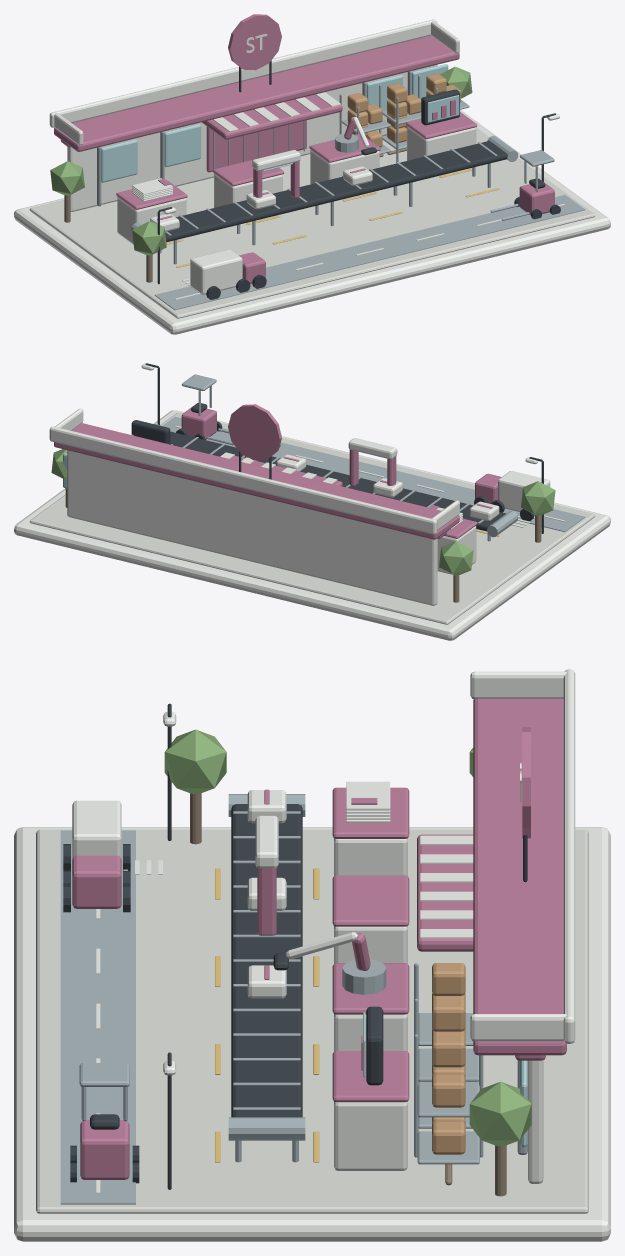
File: studio.glb
3 views of the same model, one above another, from view 1: azimuth 30°, elevation 25°; view 2: azimuth 150°, elevation 25°; view 3: azimuth 270°, elevation 25° (orthographic). The views are drawn at different scales.
Parts seen in each view (by area): view 1: Workshop floor, Factory roof, Island plinth, Loading lane, Conveyor belt, Warehouse back, Roof parapet, Factory central shutter, Round sign, Factory canopy, Delivery trailer, Work bench.003 (+21 smaller); view 2: Warehouse back, Workshop floor, Island plinth, Roof parapet, Factory roof, Loading lane, Conveyor belt, Round sign, Delivery trailer, Icosphere, Icosphere.002, Forklift body (+8 smaller); view 3: Workshop floor, Island plinth, Factory roof, Loading lane, Conveyor belt, Work bench.003, Roof parapet, Accent bench trim.001, Factory canopy, Accent bench trim.003, Icosphere.001, Icosphere.002 (+29 smaller).
Part boxes in pixels (x1=…): Workshop floor: x1=29, y1=127, x2=595, y2=318; Factory roof: x1=54, y1=35, x2=459, y2=151; Island plinth: x1=14, y1=109, x2=610, y2=334; Loading lane: x1=154, y1=195, x2=585, y2=310; Conveyor belt: x1=165, y1=141, x2=506, y2=242; Warehouse back: x1=67, y1=64, x2=437, y2=211; Roof parapet: x1=49, y1=19, x2=437, y2=127; Factory central shutter: x1=206, y1=120, x2=306, y2=172; Round sign: x1=228, y1=14, x2=281, y2=70; Factory canopy: x1=201, y1=94, x2=342, y2=139; Delivery trailer: x1=190, y1=249, x2=242, y2=294; Work bench.003: x1=407, y1=126, x2=476, y2=160; Warehouse back: x1=67, y1=450, x2=437, y2=605; Workshop floor: x1=29, y1=412, x2=595, y2=624; Island plinth: x1=14, y1=410, x2=610, y2=640; Roof parapet: x1=49, y1=426, x2=437, y2=534; Factory roof: x1=54, y1=423, x2=459, y2=539; Loading lane: x1=162, y1=416, x2=585, y2=531; Conveyor belt: x1=170, y1=431, x2=506, y2=531; Round sign: x1=228, y1=404, x2=281, y2=460; Delivery trailer: x1=498, y1=471, x2=550, y2=515; Icosphere: x1=439, y1=541, x2=473, y2=575; Icosphere.002: x1=521, y1=481, x2=555, y2=515; Forklift body: x1=181, y1=407, x2=216, y2=439; Workshop floor: x1=36, y1=829, x2=588, y2=1213; Island plinth: x1=14, y1=827, x2=610, y2=1241; Factory roof: x1=473, y1=698, x2=566, y2=1055; Loading lane: x1=60, y1=830, x2=135, y2=1204; Conveyor belt: x1=231, y1=804, x2=302, y2=1117; Work bench.003: x1=334, y1=1101, x2=407, y2=1170; Roof parapet: x1=563, y1=669, x2=575, y2=1043; Accent bench trim.001: x1=332, y1=875, x2=409, y2=926; Factory canopy: x1=417, y1=834, x2=473, y2=951; Accent bench trim.003: x1=332, y1=1051, x2=409, y2=1102; Icosphere.001: x1=469, y1=1081, x2=531, y2=1146; Icosphere.002: x1=164, y1=729, x2=226, y2=793.
Size of the model in its own units: 7.3 by 2.66 by 4.6.
